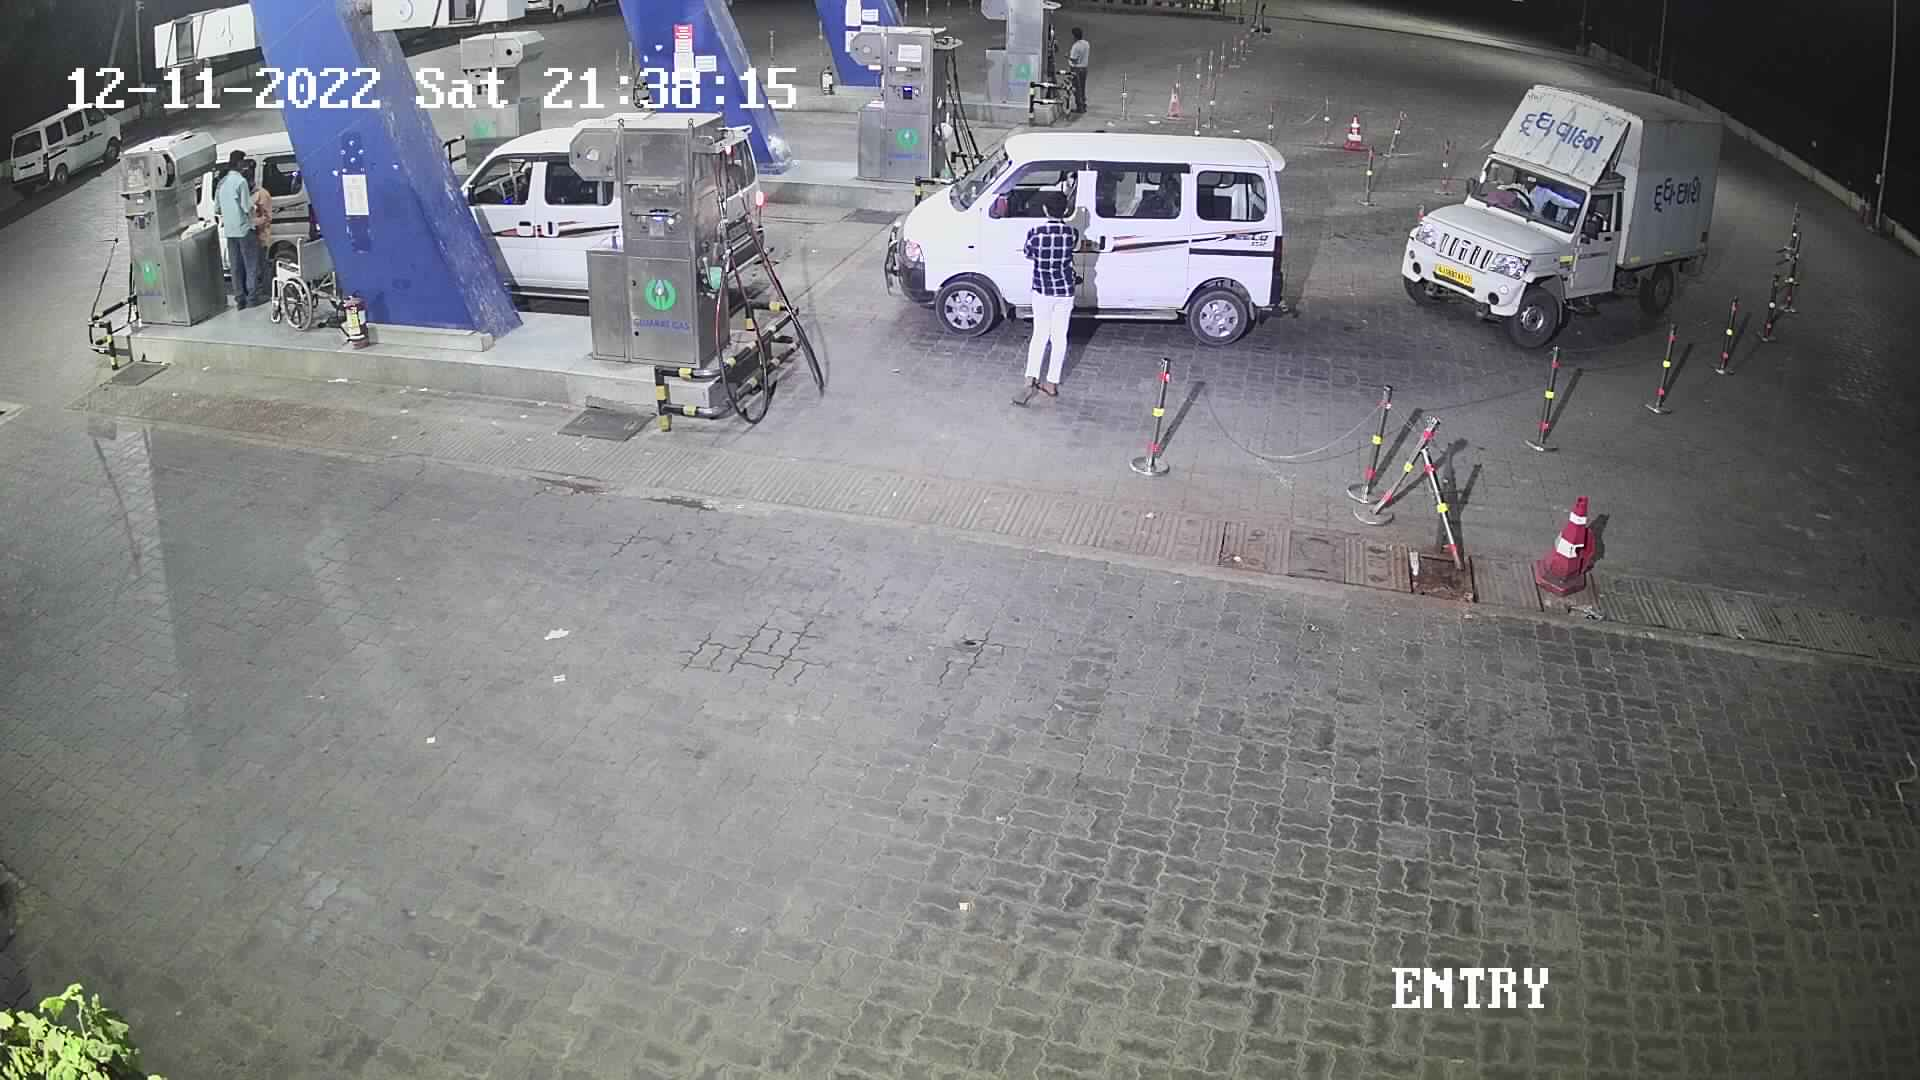Car: (890, 119, 1299, 347), (1395, 66, 1714, 348), (426, 105, 773, 320), (177, 123, 340, 313), (0, 82, 142, 195)
